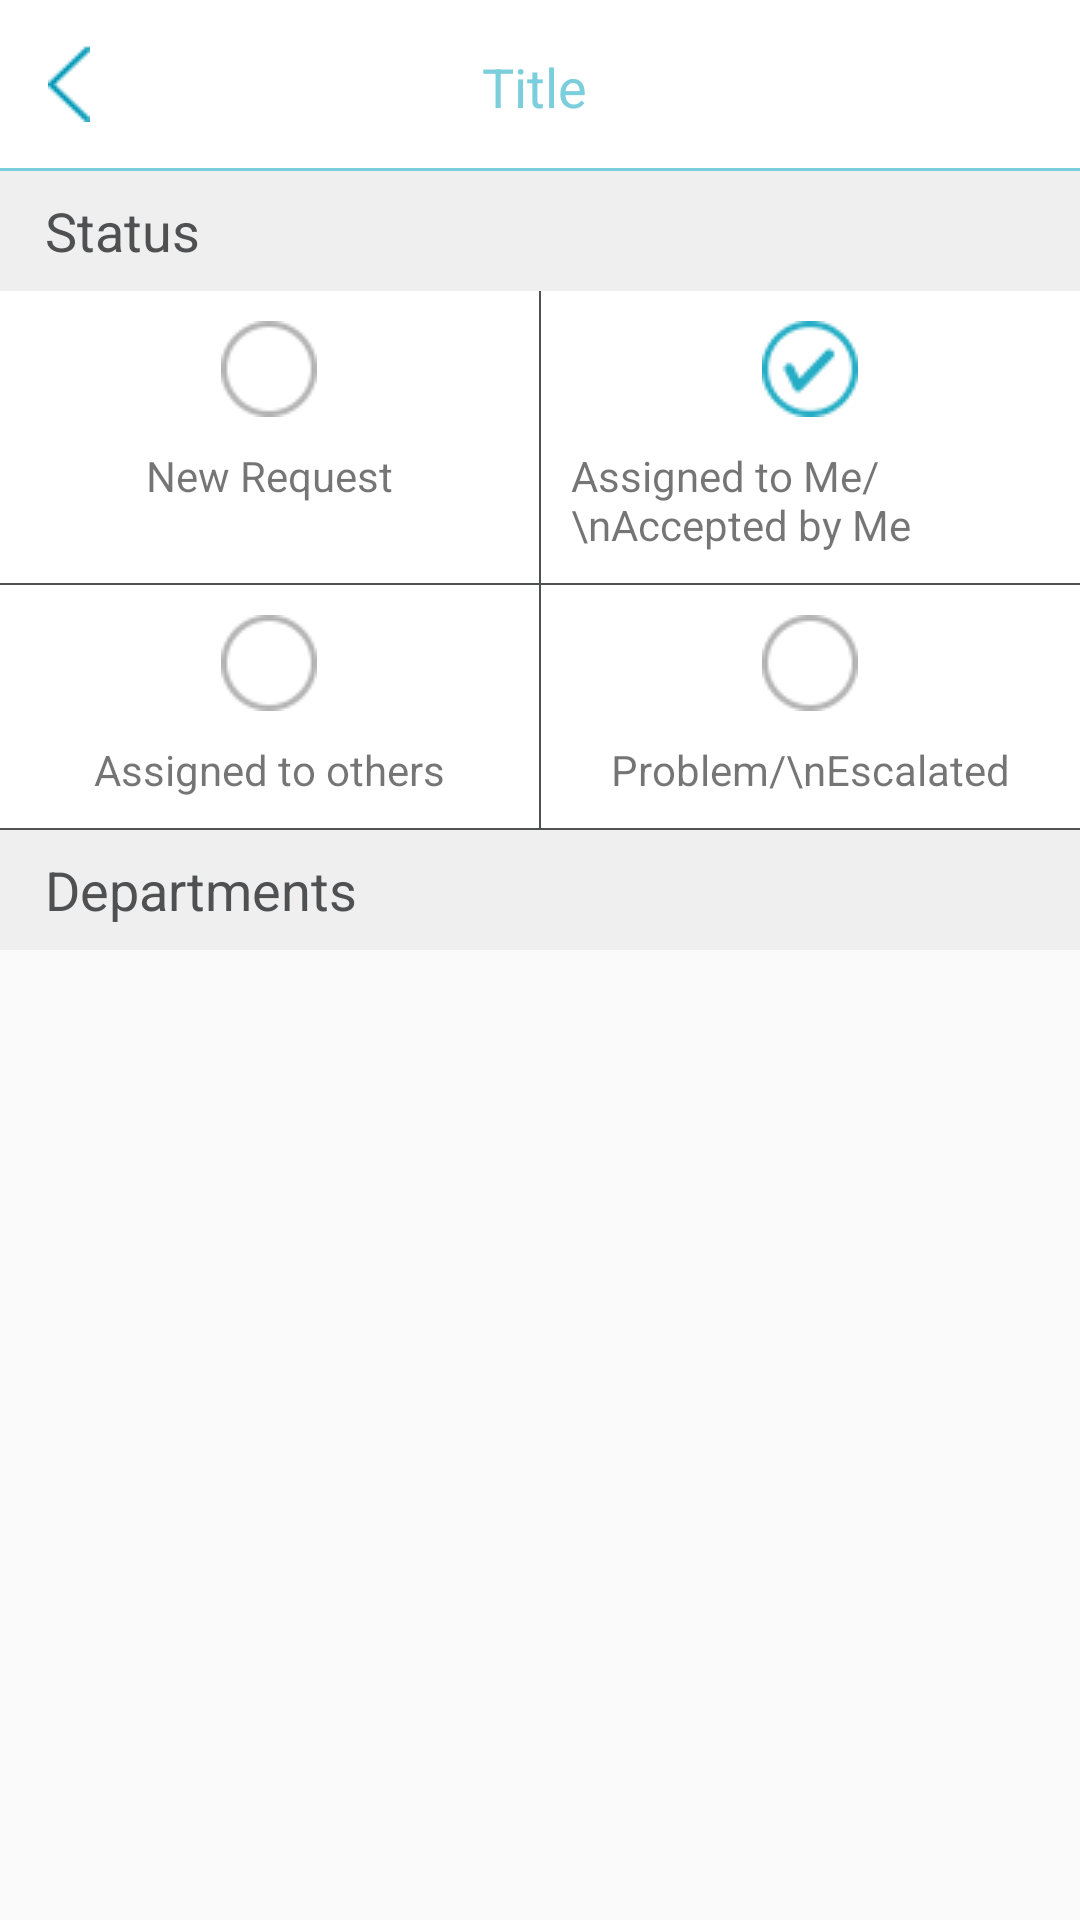

Named icons in this screenshot (1080 x 1920) and their centers, (x,y):
checkbox: (269,369), (810,369), (269,663), (810,663)
left arrow: (69,84)
